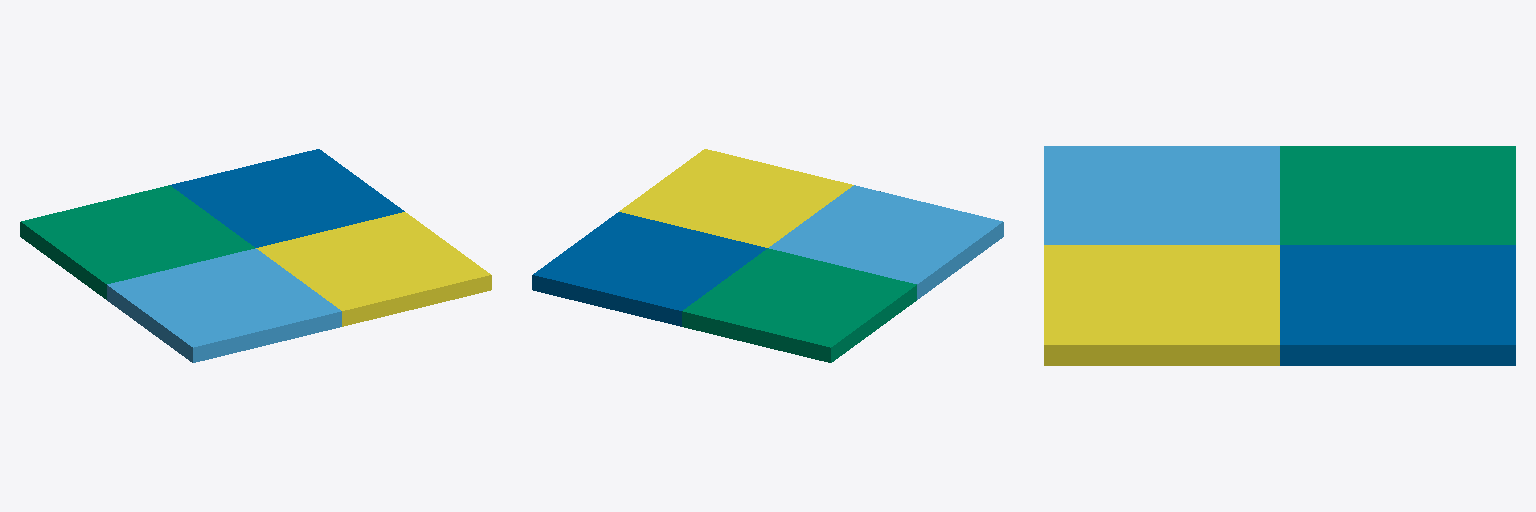
The robot description file, URDF, robot "grid":
<?xml version="1.0"?>


<robot name="grid">

  <link name="base_link"/>

  <link name="link0">
    <inertial>
      <origin xyz="0 0 0"/>
      <mass value="1.0" />
      <inertia  ixx="0.0" ixy="0.0"  ixz="0.0"  iyy="0.0"  iyz="0.0"  izz="0.0" />
    </inertial>
    <visual>
      <origin xyz="0 0 0"/>
      <geometry>
        <box size="1 1 0.1" />
      </geometry>
    </visual>
    <collision>
      <origin xyz="0 0 0"/>
      <geometry>
        <box size="1 1 0.1" />
      </geometry>
    </collision>
  </link>

  <gazebo reference="link0">
    <material>Gazebo/Green</material>
    <static>true</static>
  </gazebo>

  <joint name="base_to_link0" type="fixed">
    <parent link="base_link"/>
    <child link="link0"/>
    <origin xyz="0 0 0"/>
  </joint>


  <link name="link1">
    <inertial>
      <origin xyz="0 1 0"/>
      <mass value="1.0" />
      <inertia  ixx="0.0" ixy="0.0"  ixz="0.0"  iyy="0.0"  iyz="0.0"  izz="0.0" />
    </inertial>
    <visual>
      <origin xyz="0 1 0"/>
      <geometry>
        <box size="1 1 0.1" />
      </geometry>
    </visual>
    <collision>
      <origin xyz="0 1 0"/>
      <geometry>
        <box size="1 1 0.1" />
      </geometry>
    </collision>
  </link>

  <gazebo reference="link1">
    <material>Gazebo/Red</material>
    <static>true</static>
  </gazebo>

  <joint name="base_to_link1" type="fixed">
    <parent link="base_link"/>
    <child link="link1"/>
    <origin xyz="0 0 0"/>
  </joint>


  <link name="link2">
    <inertial>
      <origin xyz="1 0 0"/>
      <mass value="1.0" />
      <inertia  ixx="0.0" ixy="0.0"  ixz="0.0"  iyy="0.0"  iyz="0.0"  izz="0.0" />
    </inertial>
    <visual>
      <origin xyz="1 0 0"/>
      <geometry>
        <box size="1 1 0.1" />
      </geometry>
    </visual>
    <collision>
      <origin xyz="1 0 0"/>
      <geometry>
        <box size="1 1 0.1" />
      </geometry>
    </collision>
  </link>

  <gazebo reference="link2">
    <material>Gazebo/Red</material>
    <static>true</static>
  </gazebo>

  <joint name="base_to_link2" type="fixed">
    <parent link="base_link"/>
    <child link="link2"/>
    <origin xyz="0 0 0"/>
  </joint>


  <link name="link3">
    <inertial>
      <origin xyz="1 1 0"/>
      <mass value="1.0" />
      <inertia  ixx="0.0" ixy="0.0"  ixz="0.0"  iyy="0.0"  iyz="0.0"  izz="0.0" />
    </inertial>
    <visual>
      <origin xyz="1 1 0"/>
      <geometry>
        <box size="1 1 0.1" />
      </geometry>
    </visual>
    <collision>
      <origin xyz="1 1 0"/>
      <geometry>
        <box size="1 1 0.1" />
      </geometry>
    </collision>
  </link>

  <gazebo reference="link3">
    <material>Gazebo/Green</material>
    <static>true</static>
  </gazebo>

  <joint name="base_to_link3" type="fixed">
    <parent link="base_link"/>
    <child link="link3"/>
    <origin xyz="0 0 0"/>
  </joint>


</robot>

--- What the picture shows (computed from the rendered views, not written in the file) ---
The picture shows the robot from 3 angles, left to right: view 1: azimuth 30°, elevation 25°; view 2: azimuth 150°, elevation 25°; view 3: azimuth 270°, elevation 25°; orthographic projection.
Model grid with 5 links and 4 joints (4 fixed), rooted at base_link, posed every joint at zero.
Visible links, largest first — view 1: link0, link2, link1, link3; view 2: link1, link3, link0, link2; view 3: link2, link3, link0, link1.
Boxes of the visible links, x1,y1,x2,y2 form: link0: (107,248,341,362); link2: (256,212,491,326); link1: (20,185,254,299); link3: (170,149,404,247); link1: (682,248,916,362); link3: (532,212,767,326); link0: (769,185,1003,299); link2: (619,149,853,247); link2: (1044,245,1279,365); link3: (1280,245,1515,365); link0: (1044,146,1279,244); link1: (1280,146,1515,244).
Bounding box of the posed robot: 2 × 2 × 0.1 m (x, y, z).
Geometry: primitives only (box / cylinder / sphere), no mesh files.